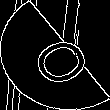O_NE: (17, 23, 93, 87)
